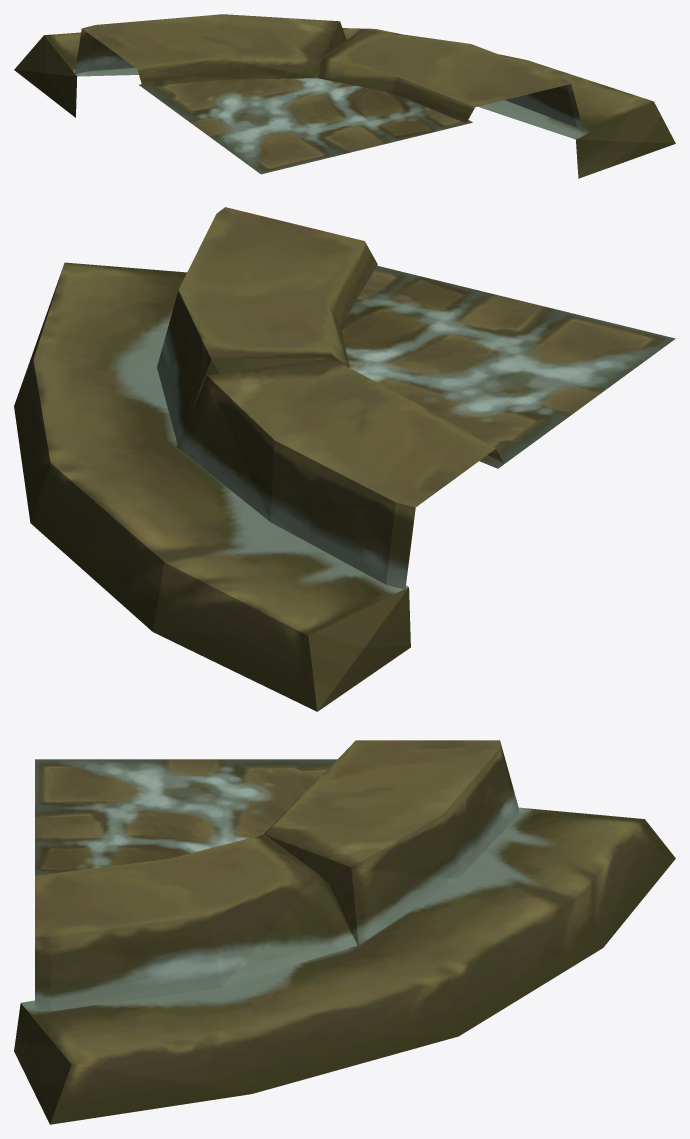
Rendered from tundra_dias_convex_01.fbx.
3 views of the same model, one above another, from view 1: azimuth 30°, elevation 25°; view 2: azimuth 150°, elevation 25°; view 3: azimuth 270°, elevation 25° (orthographic). The views are drawn at different scales.
Parts seen in each view (by area): view 1: obj0.130; view 2: obj0.130; view 3: obj0.130.
Part boxes in pixels (left/top/right/bottom): obj0.130: left=14, top=14, right=675, bottom=178; obj0.130: left=14, top=207, right=675, bottom=711; obj0.130: left=14, top=740, right=675, bottom=1124.
Size of the model in its own units: 3.98 by 0.8653 by 4.16.
